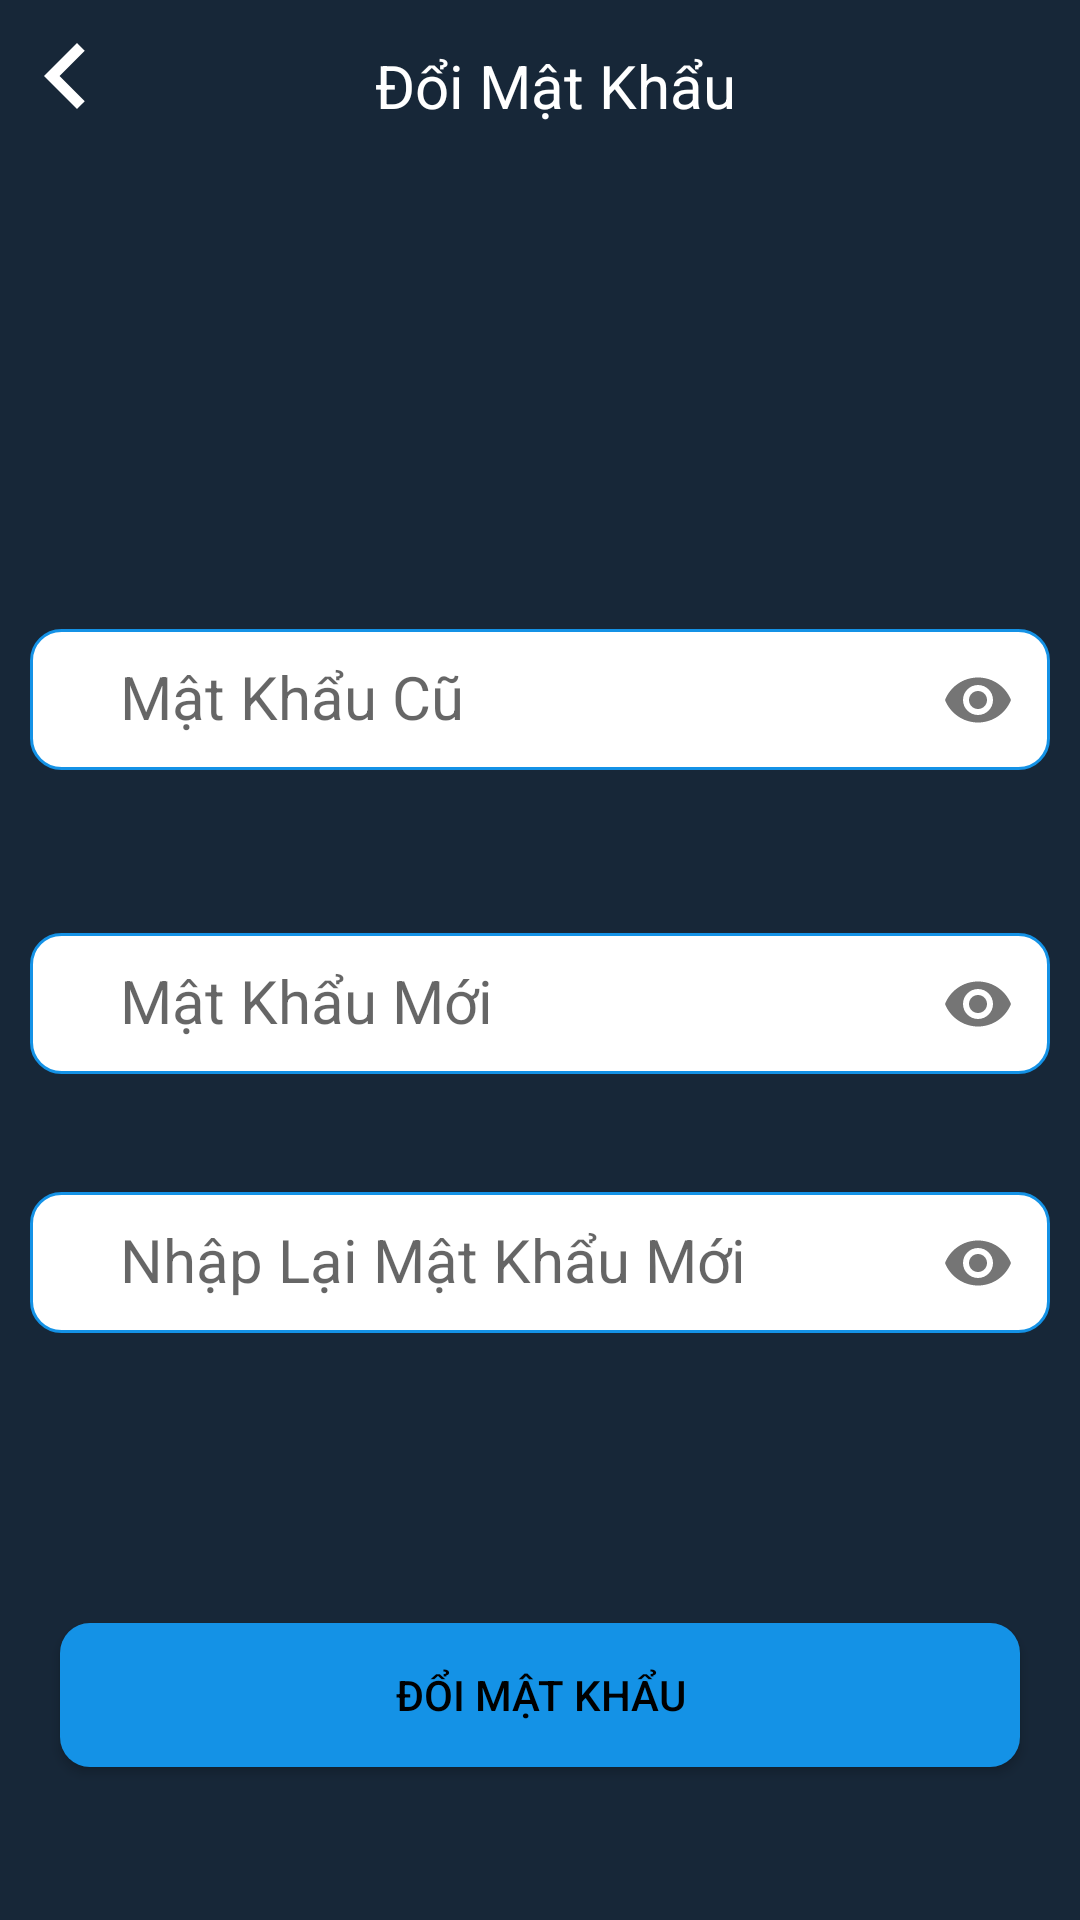

Point at icon controls on the screen. Image size 1080px×1920px, points as (x,y).
keyboard arrow left: (64,76)
